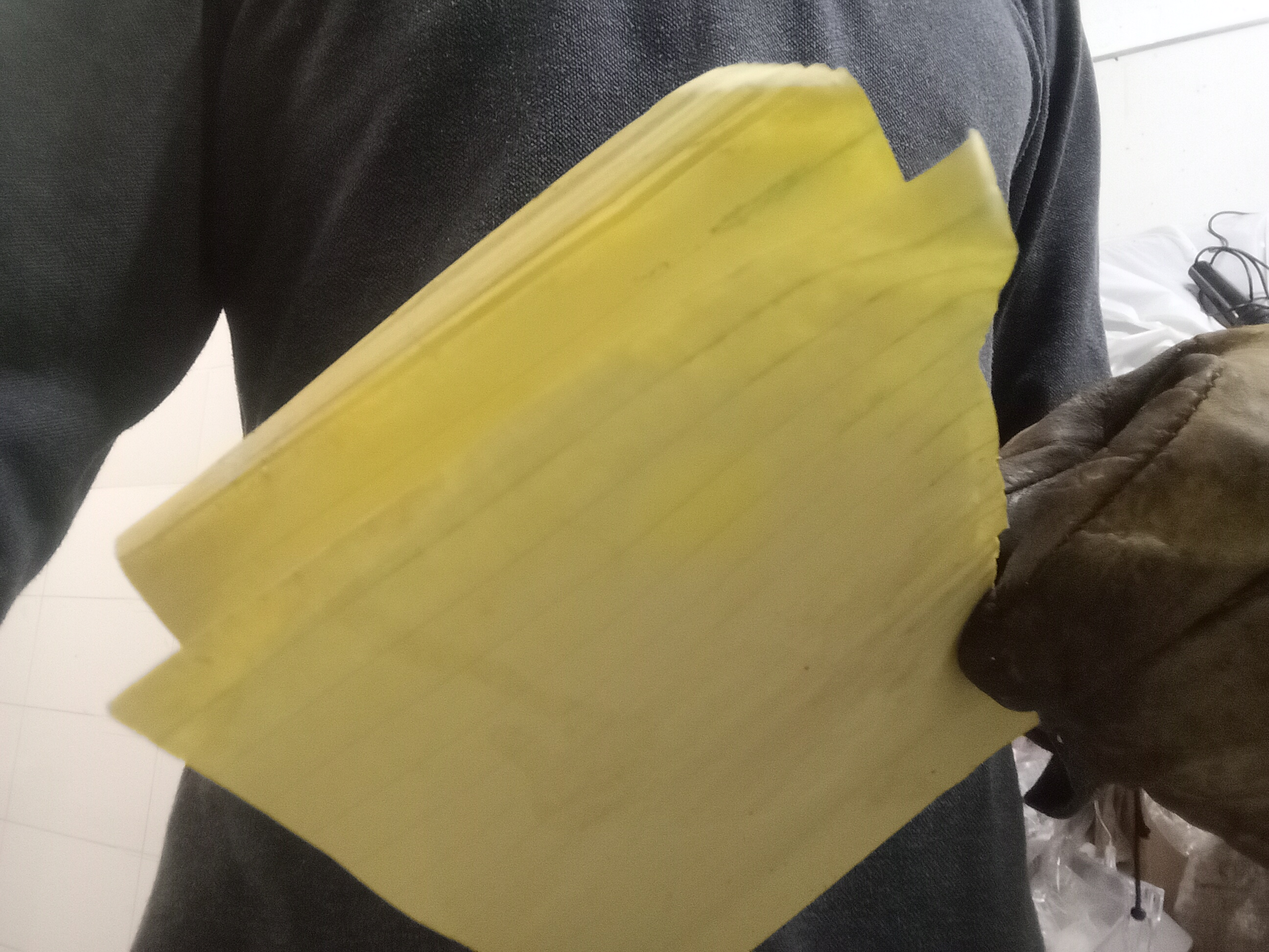Papel: (108, 64, 1039, 952)
